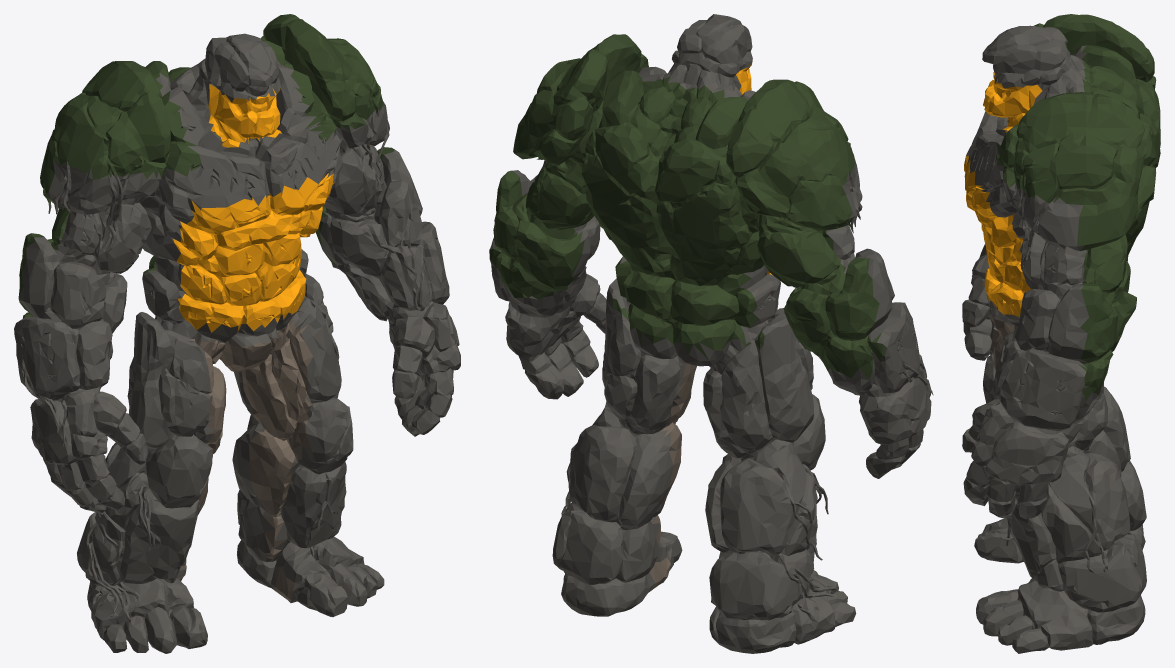
Rendered from titan_golem_torso.obj.
The picture shows the model from 3 angles, left to right: view 1: azimuth 30°, elevation 25°; view 2: azimuth 150°, elevation 25°; view 3: azimuth 270°, elevation 25°; orthographic projection. The views are drawn at different scales.
Parts seen in each view (by area): view 1: TitanGolem; view 2: TitanGolem; view 3: TitanGolem.
Part boxes in pixels (x1,y1,x2,y2): TitanGolem: (14,14,460,653); TitanGolem: (489,14,933,653); TitanGolem: (962,14,1160,653).
Size of the model in its own units: 2.09 by 2.8 by 0.8945.
